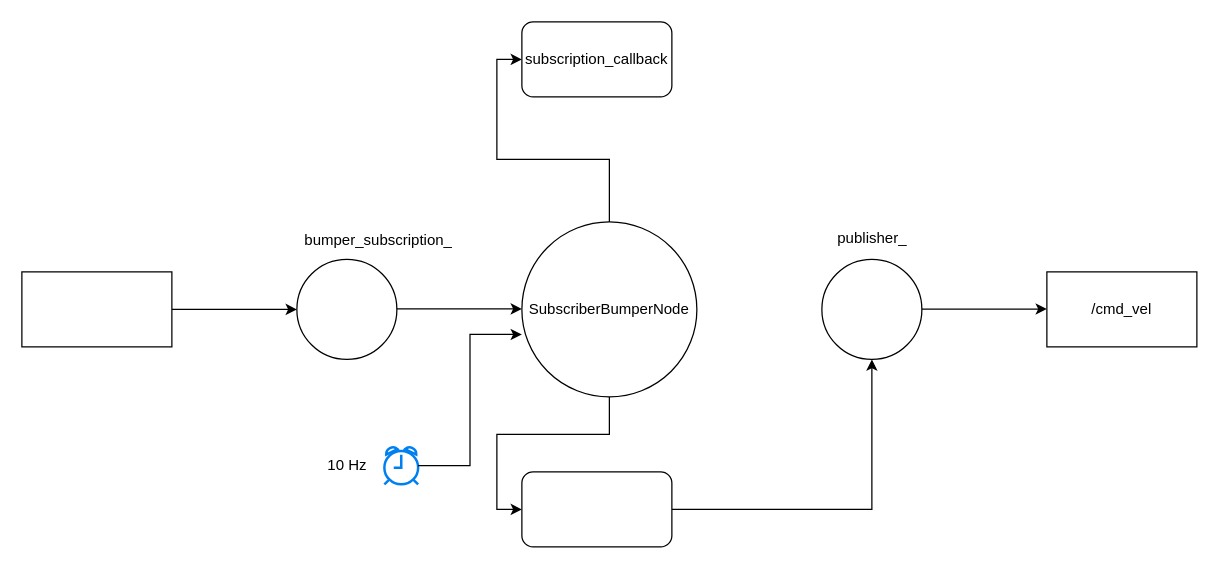
The diagram is 1219 pixels wide and 569 high, and some of its shapes have lost their labels. Here are the shapes that lost their labels. From the top down, the centre of each, then its label:
At [96,309]: "/events/bumper".
At [596,509]: "timer_callback".
